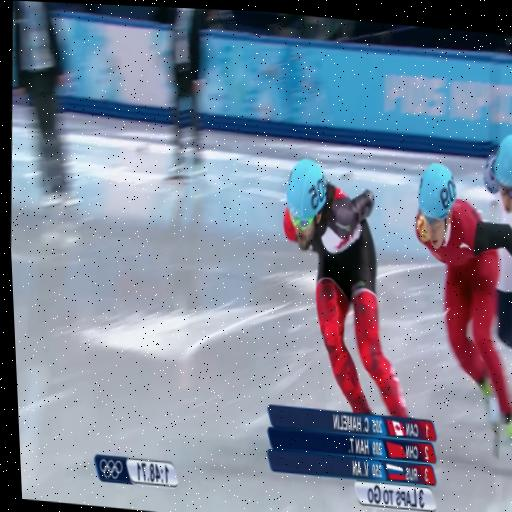Skater: (282, 159, 407, 417), (415, 164, 511, 450), (483, 135, 511, 227)
